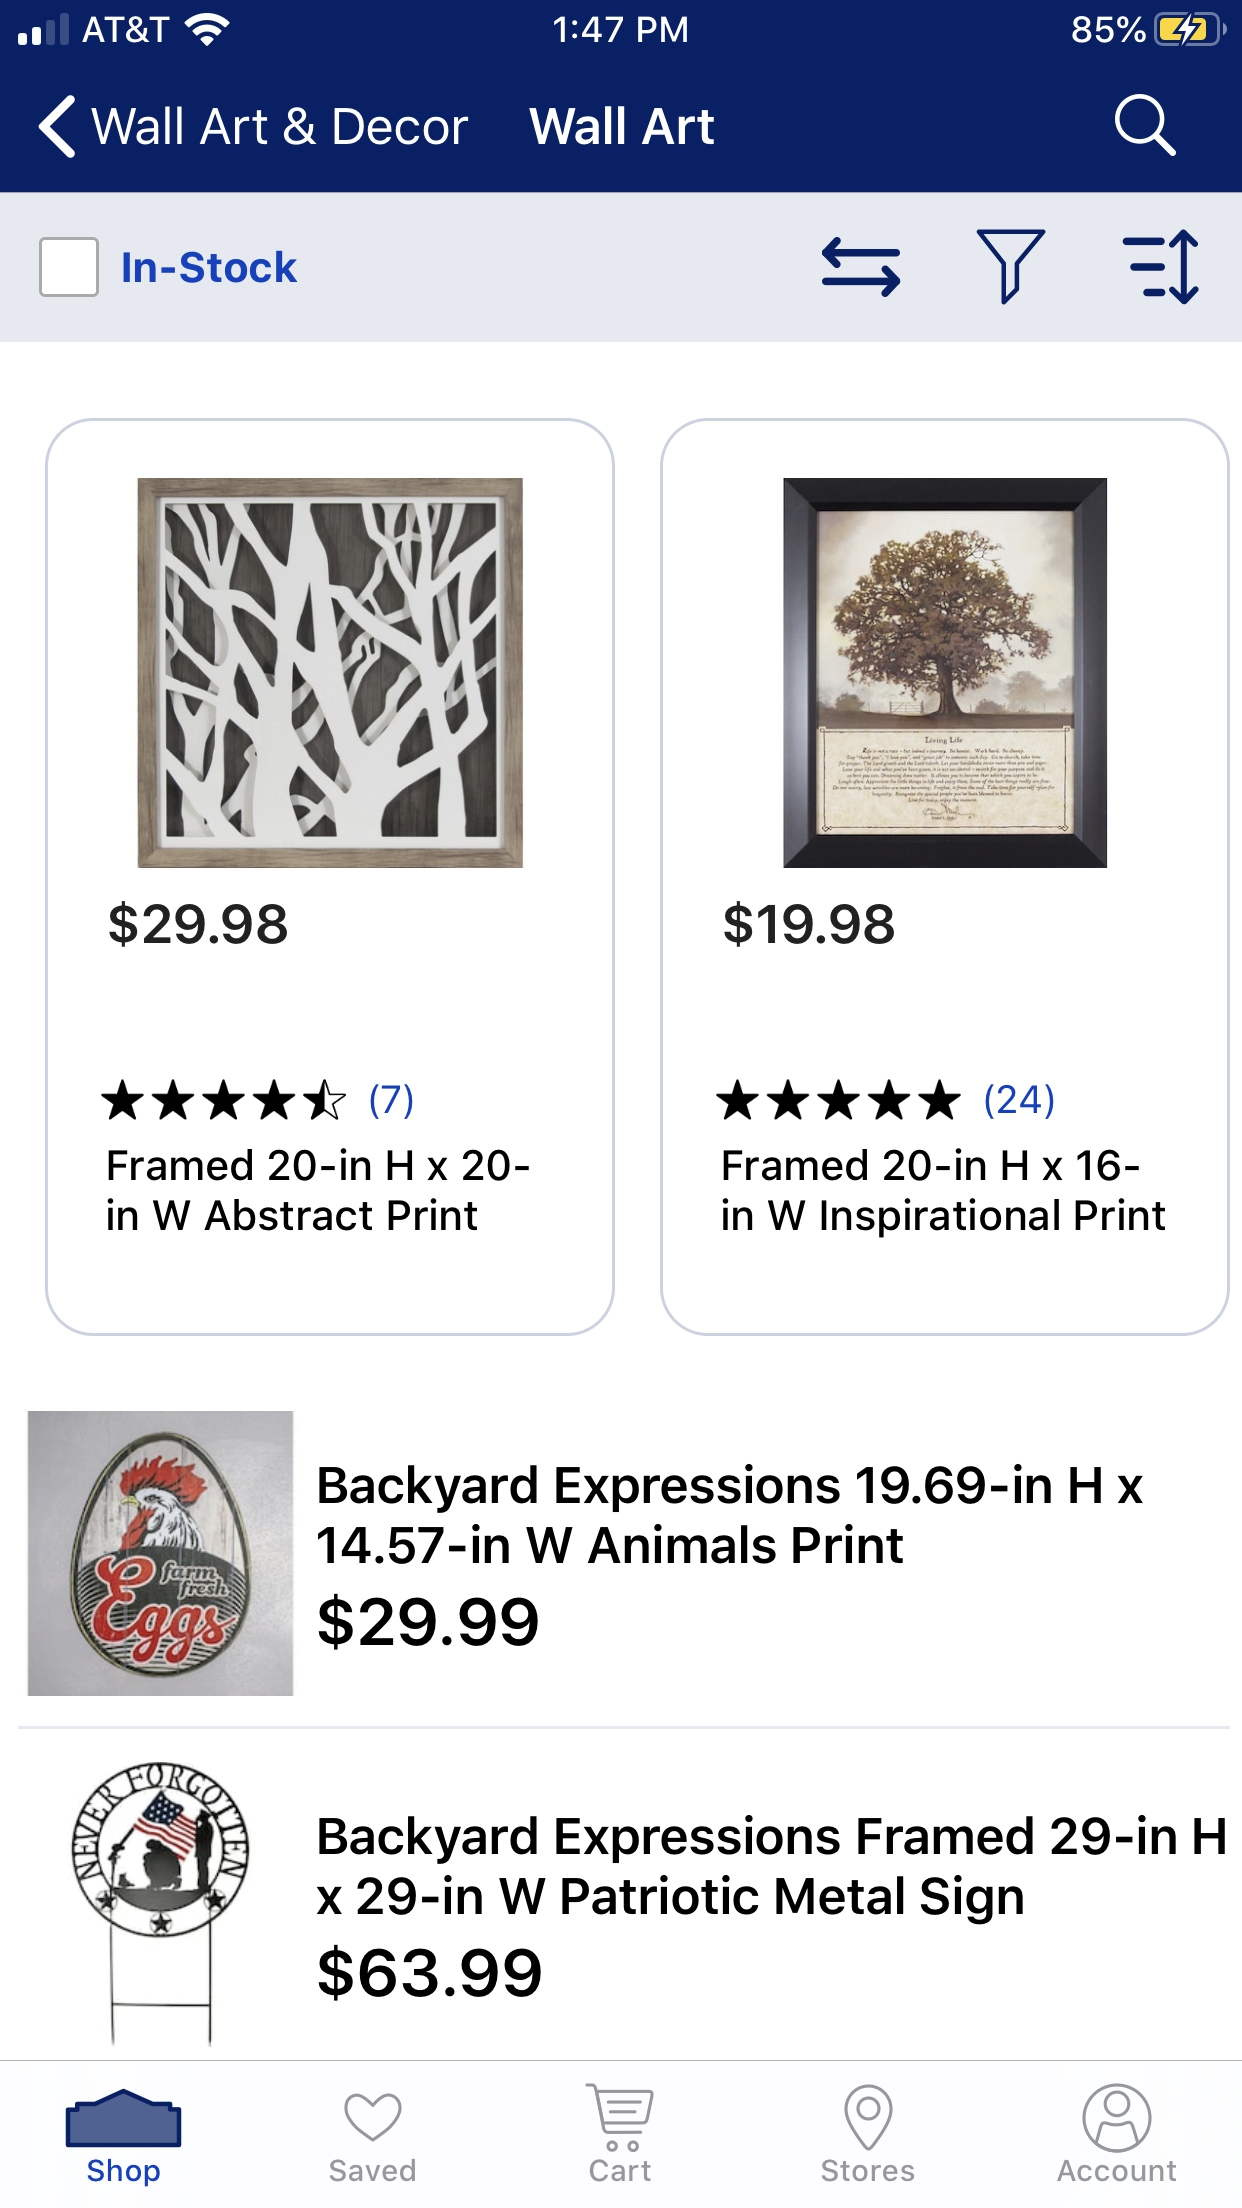CheckedTextView: (38, 237, 299, 299)
Icon: (102, 1080, 347, 1121), (716, 1080, 961, 1121), (1122, 229, 1200, 306), (1081, 2084, 1153, 2153), (822, 237, 901, 299), (585, 2084, 654, 2152), (1115, 96, 1175, 158), (843, 2084, 893, 2150), (346, 2093, 403, 2141), (39, 96, 77, 161)
Image: (138, 479, 525, 869), (783, 478, 1107, 869), (29, 1410, 294, 1695), (73, 1762, 252, 2047), (67, 2088, 182, 2147), (977, 229, 1046, 306)
Text: (318, 1815, 1225, 1924), (318, 1463, 1143, 1565), (722, 1149, 1166, 1239), (108, 1146, 529, 1231), (91, 108, 469, 146), (318, 1944, 541, 2002), (318, 1592, 538, 1650), (111, 901, 288, 948), (723, 901, 895, 948), (529, 108, 714, 146), (123, 252, 299, 285), (1057, 2158, 1177, 2182), (986, 1084, 1055, 1121), (820, 2158, 914, 2182), (331, 2156, 417, 2182), (88, 2158, 161, 2187), (370, 1083, 414, 1121), (590, 2159, 654, 2184)
UpperTaskBar: (2, 2, 1242, 49)
